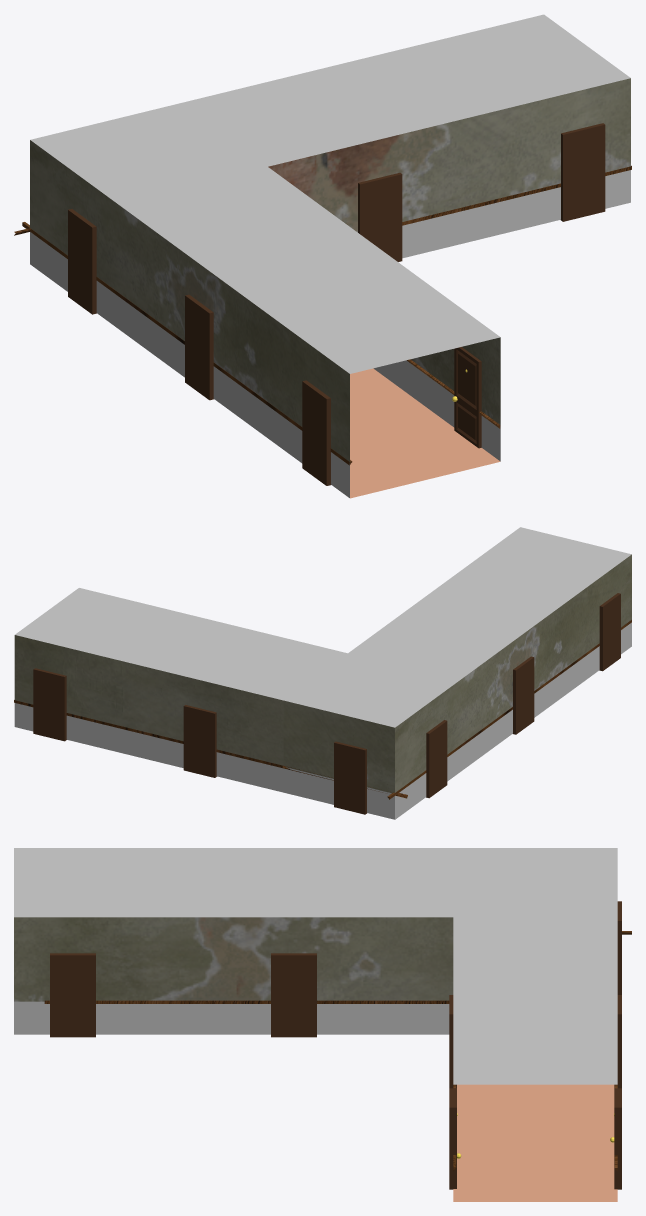
The model's file is Lduvar2.fbx.
The picture shows the model from 3 angles, top to bottom: view 1: azimuth 30°, elevation 25°; view 2: azimuth 150°, elevation 25°; view 3: azimuth 270°, elevation 25°; orthographic projection. The views are drawn at different scales.
Parts seen in each view (by area): view 1: Lkoridor; view 2: Lkoridor; view 3: Lkoridor.
Boxes of the visible parts, x1=… form: Lkoridor: x1=14, y1=14, x2=631, y2=498; Lkoridor: x1=14, y1=527, x2=631, y2=819; Lkoridor: x1=14, y1=848, x2=631, y2=1201.
Bounding box in the file's own units: 1408 × 317 × 1506.
